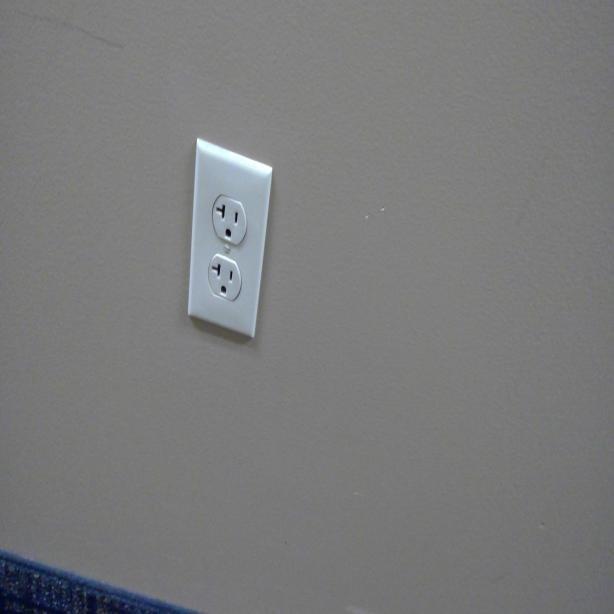typeb: (211, 187, 246, 243), (209, 255, 238, 300)
